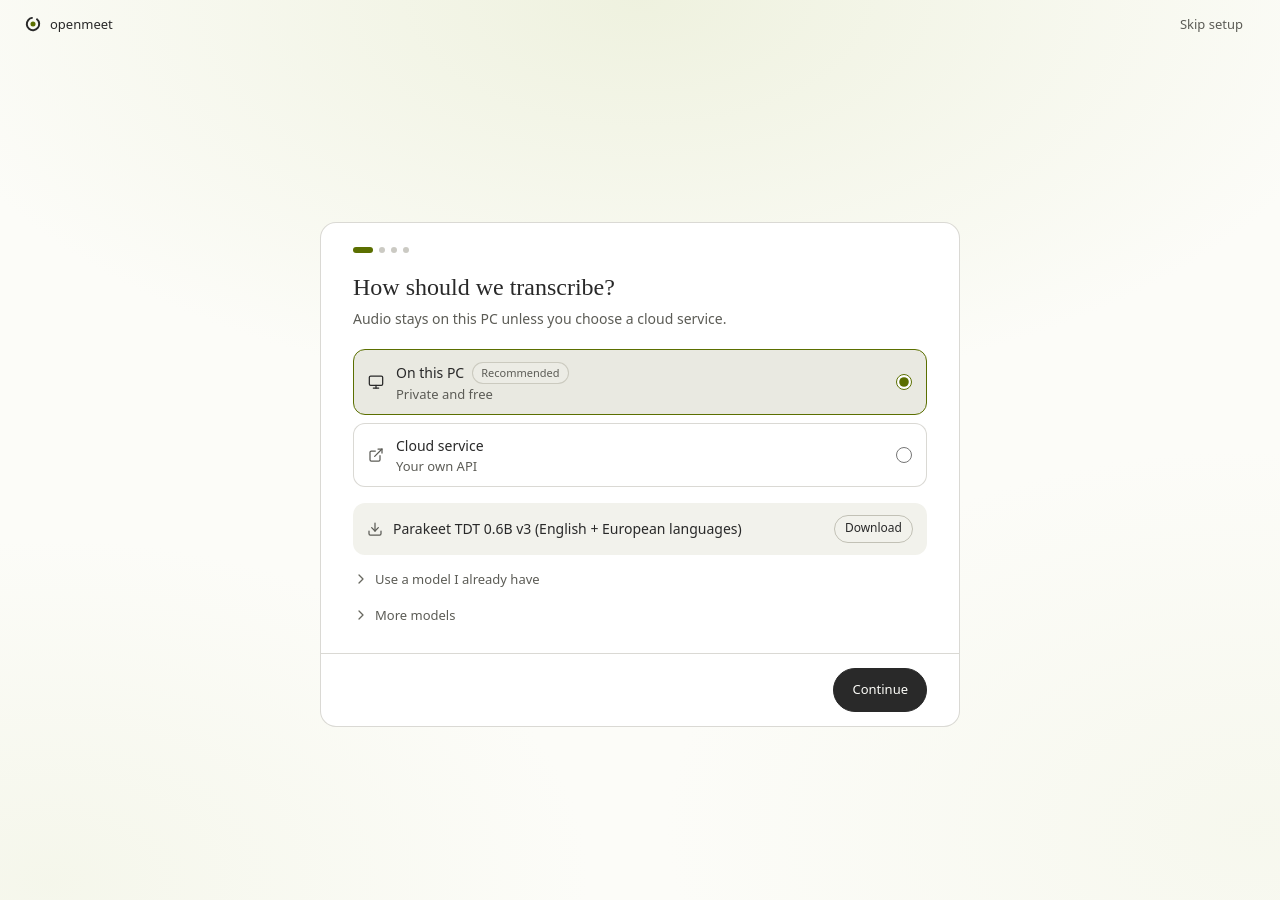
Test: offers the major providers for AI notes and connects the default one
The width and height of the screenshot is (1280, 900).
Expected: the heading "How should we transcribe?" is shown, x1=353 y1=274 x2=615 y2=300
Click the button "Continue". click: [880, 690]
box: x1=833 y1=668 x2=927 y2=712
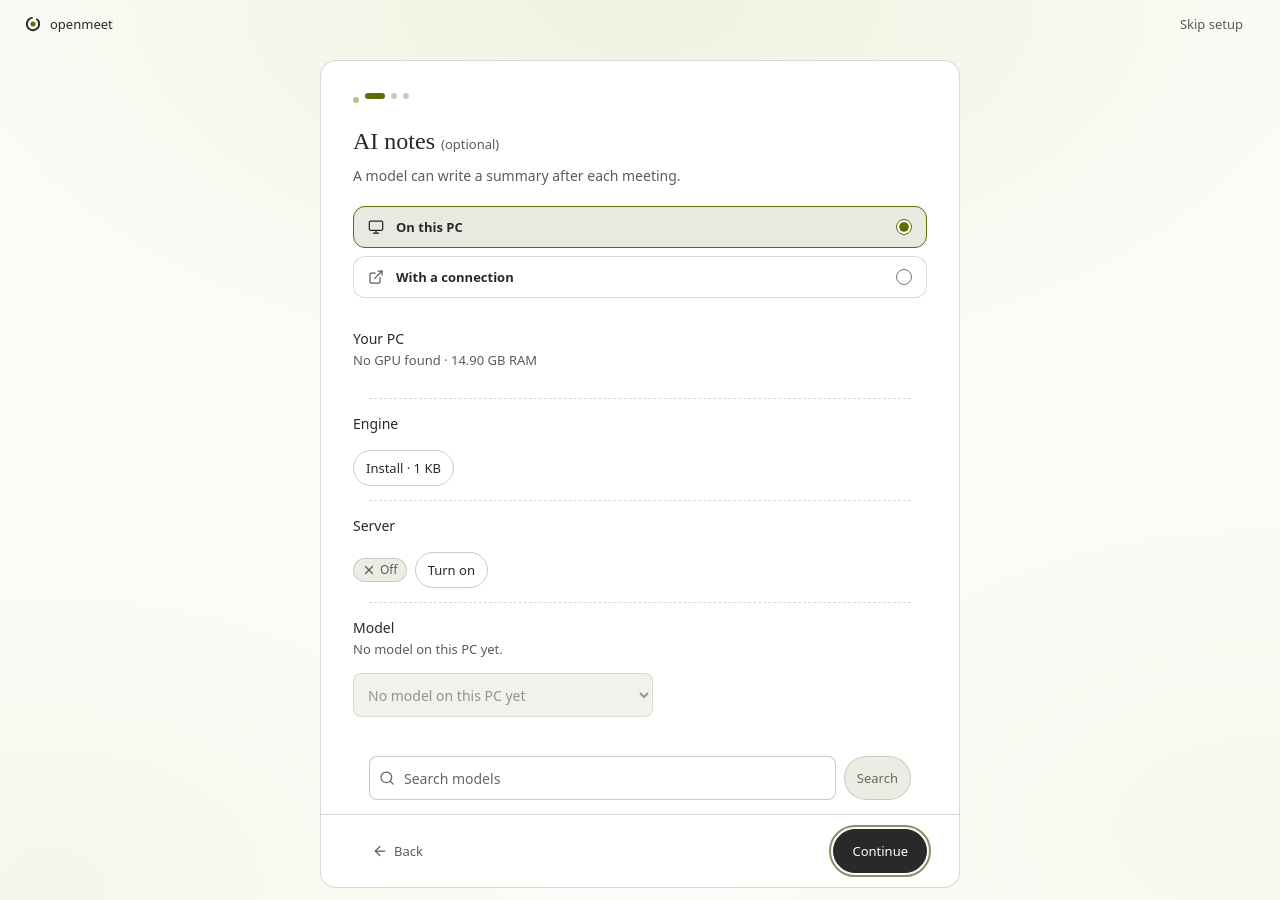
Click the radio button labelled "With a connection". click: [904, 277]
box: x1=896 y1=269 x2=912 y2=285
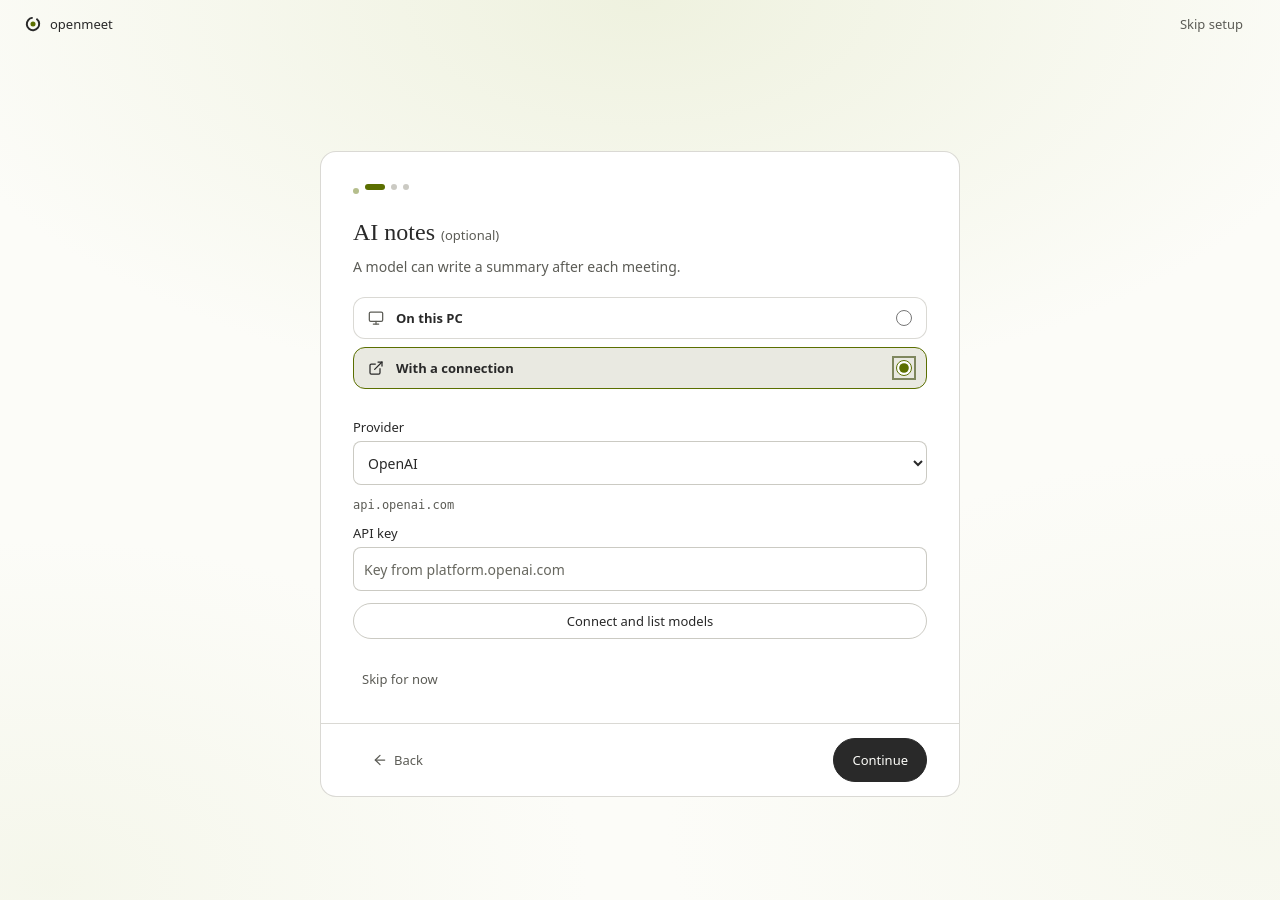
Expected: the dropdown labelled "Provider" shows "OpenAI", x1=353 y1=441 x2=927 y2=485
Expected: the text "api.openai.com" is shown, x1=353 y1=498 x2=454 y2=512
Click the button "Connect and list models". click: [640, 621]
box: x1=353 y1=603 x2=927 y2=639
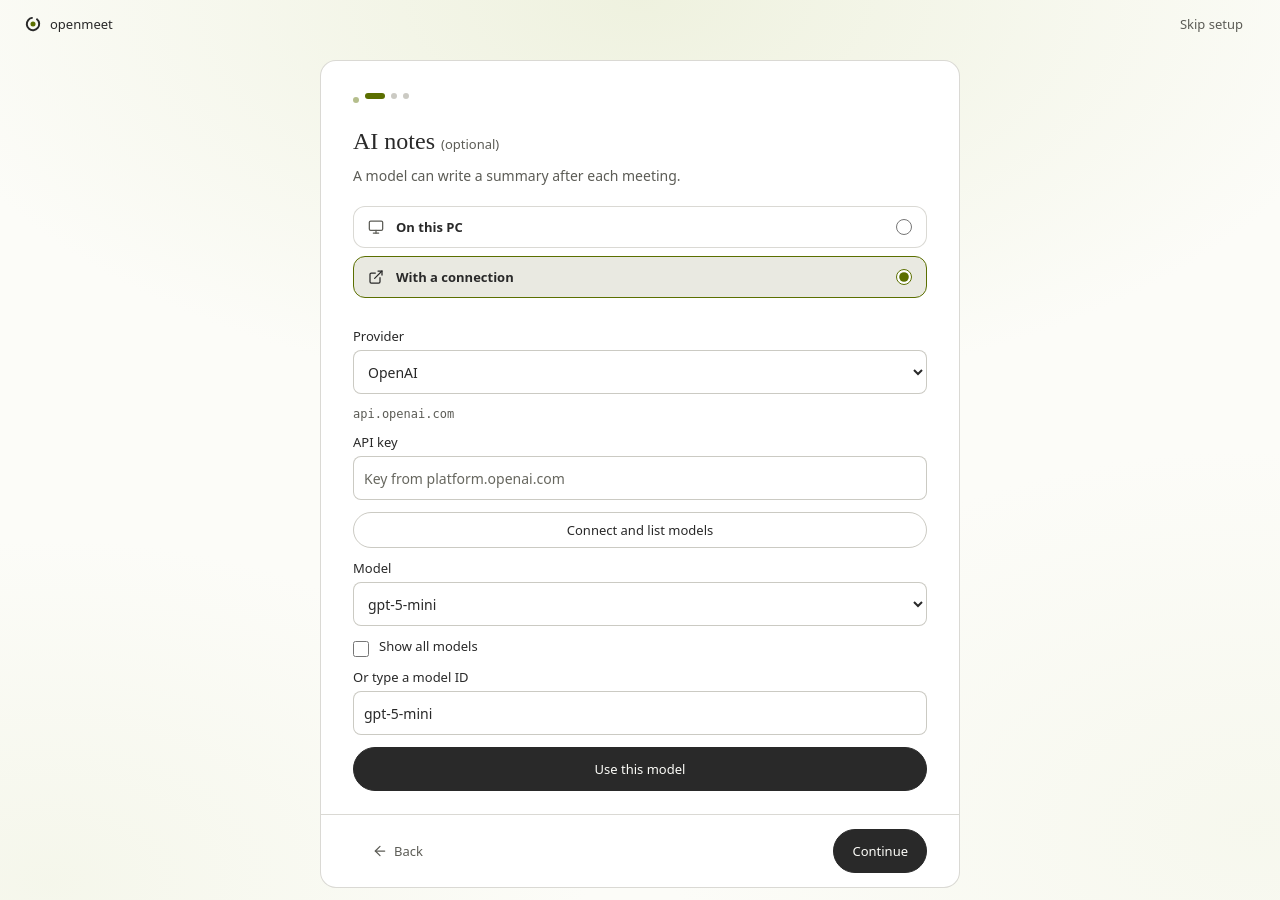
Expected: the dropdown labelled "Model" shows "gpt-5-mini", x1=353 y1=582 x2=927 y2=626
